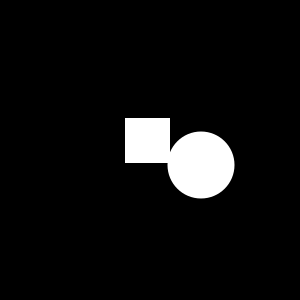circle: (125, 118, 170, 163)
rectangle: (168, 132, 235, 199)
